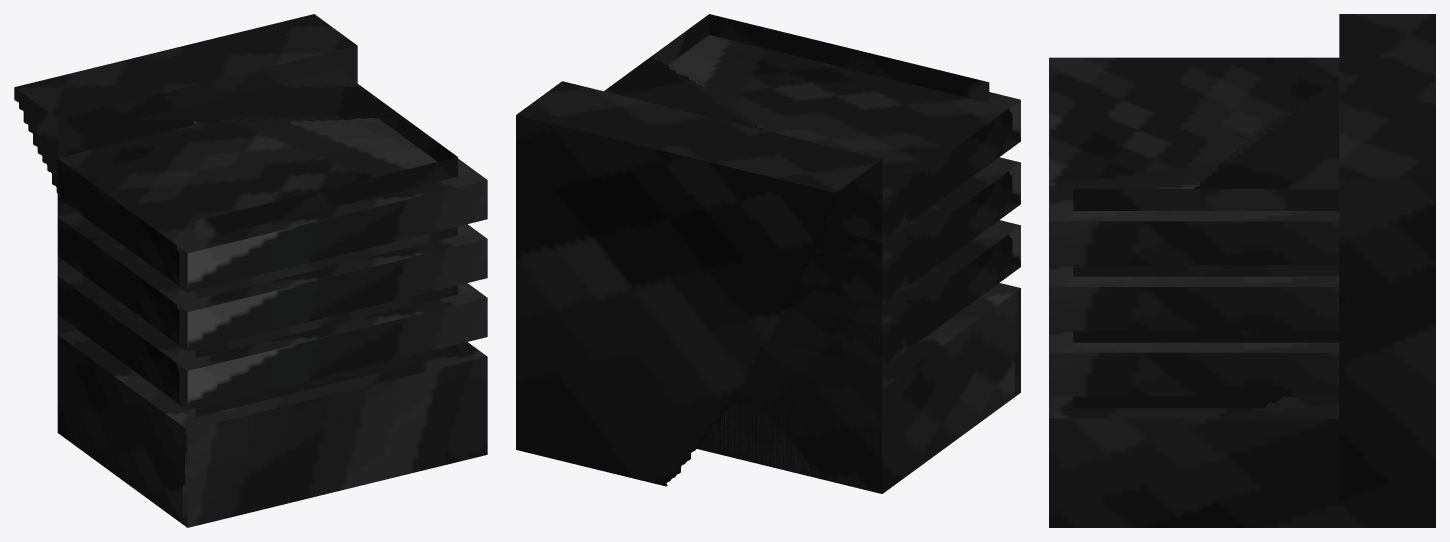
File: spectrometer.obj
The picture shows the model from 3 angles, left to right: view 1: azimuth 30°, elevation 25°; view 2: azimuth 150°, elevation 25°; view 3: azimuth 270°, elevation 25°; orthographic projection. The views are drawn at different scales.
Parts seen in each view (by area): view 1: model; view 2: model; view 3: model.
Part boxes in pixels (left/top/right/bottom): model: left=14, top=14, right=487, bottom=527; model: left=516, top=14, right=1020, bottom=493; model: left=1049, top=14, right=1435, bottom=527.
Size of the model in its own units: 1 by 1 by 1.
